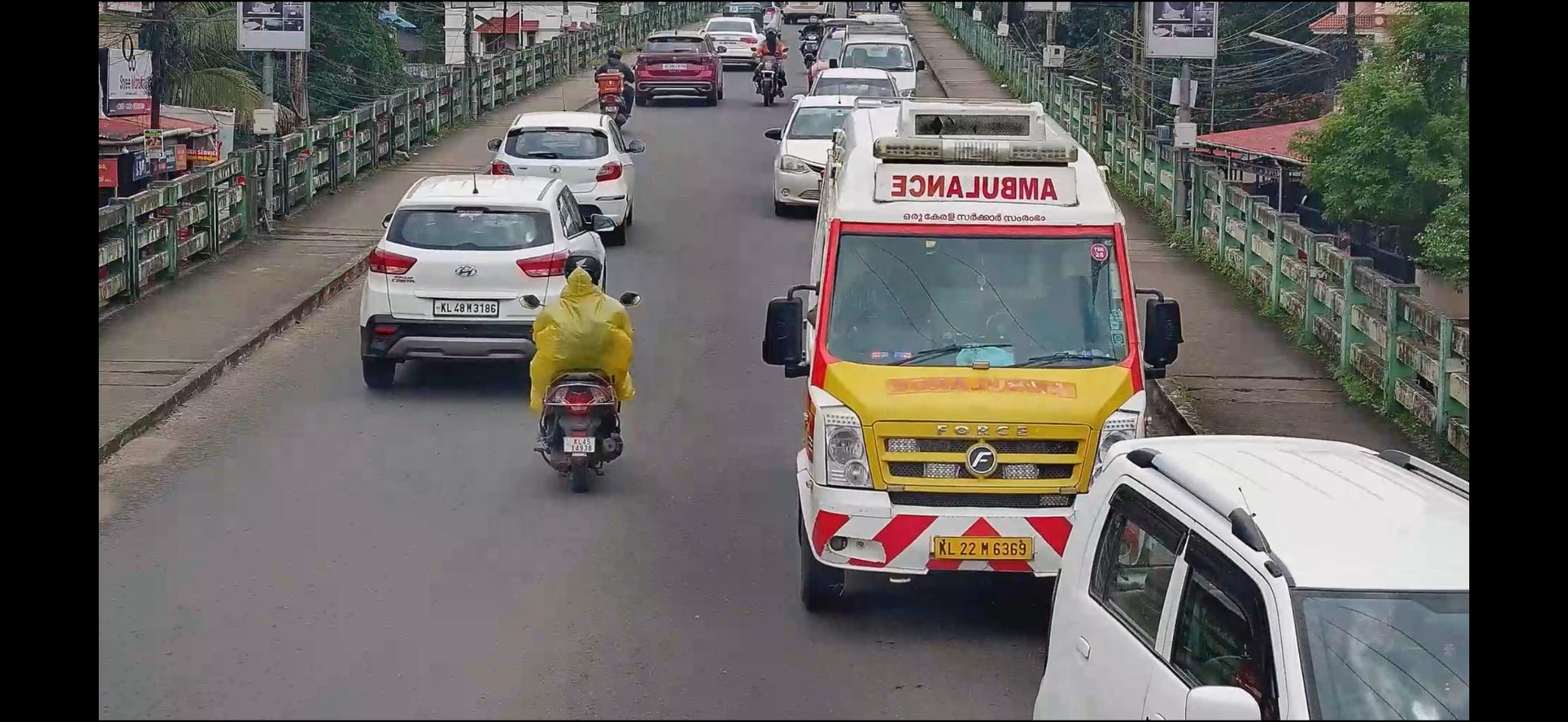ambulance: (782, 80, 1152, 617)
